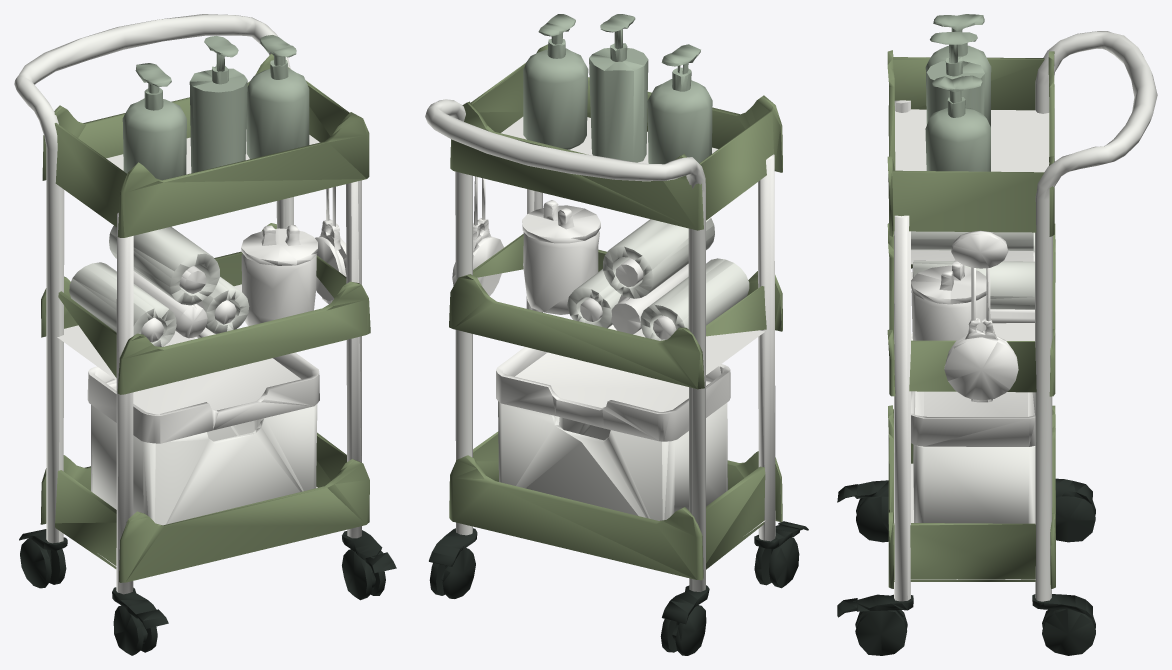
Rendered from bath_cart.glb.
3 renders of one model, left to right at view 1: azimuth 30°, elevation 25°; view 2: azimuth 150°, elevation 25°; view 3: azimuth 270°, elevation 25°, orthographic. The views are drawn at different scales.
Size of the model in its own units: 0.94 by 1.85 by 0.9579.
